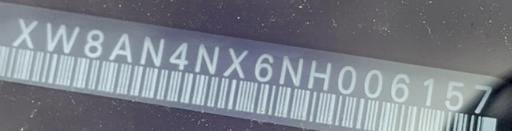letter: (44, 18, 80, 55), (139, 32, 165, 71), (106, 30, 134, 65), (192, 41, 220, 76), (222, 47, 250, 80), (279, 55, 305, 90), (306, 58, 332, 93), (12, 16, 40, 48), (166, 40, 192, 71), (472, 79, 494, 115), (361, 66, 383, 99), (444, 79, 466, 112), (82, 26, 104, 59), (390, 70, 410, 104), (336, 63, 356, 96), (254, 51, 274, 84), (420, 75, 434, 109)
